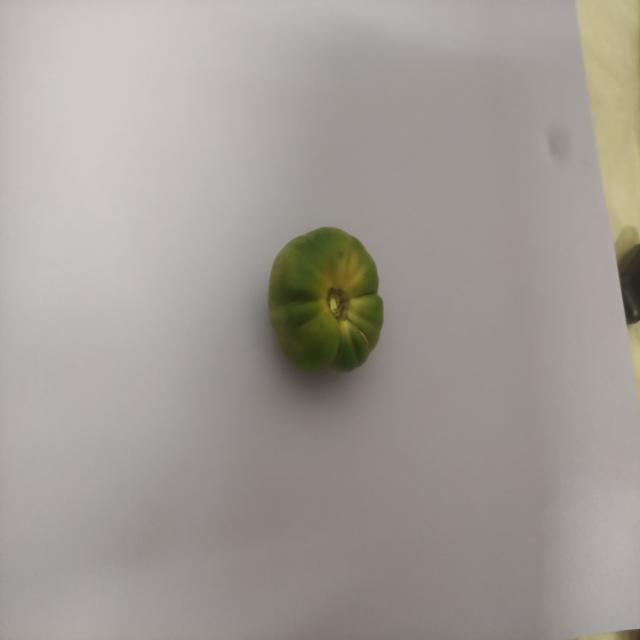yesil: (268, 218, 402, 385)
